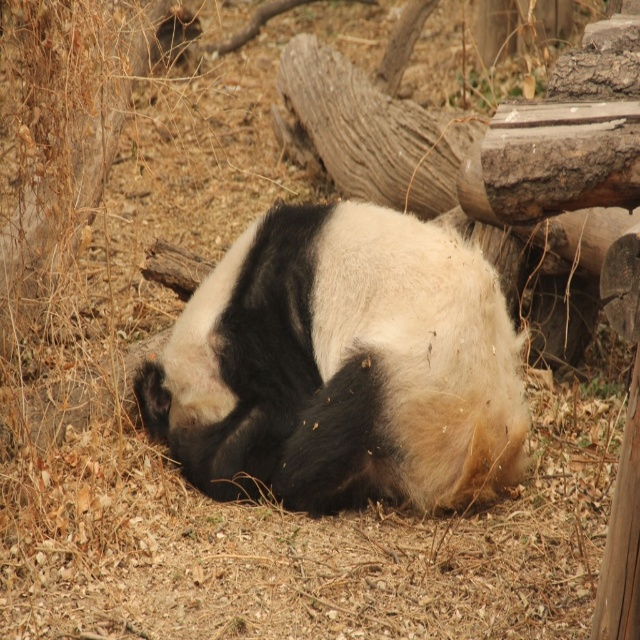Panda: (134, 197, 531, 513)
